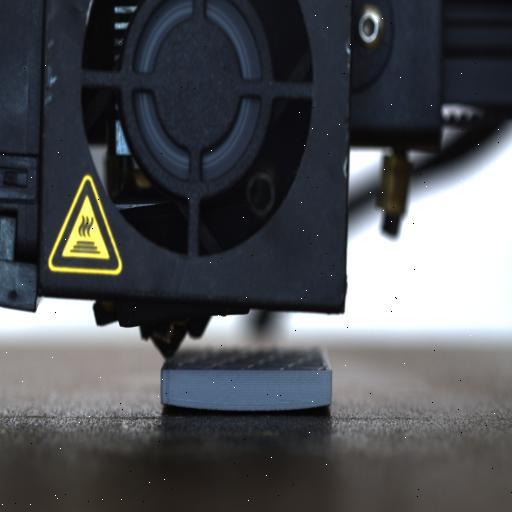warp: (280, 390, 334, 416)
